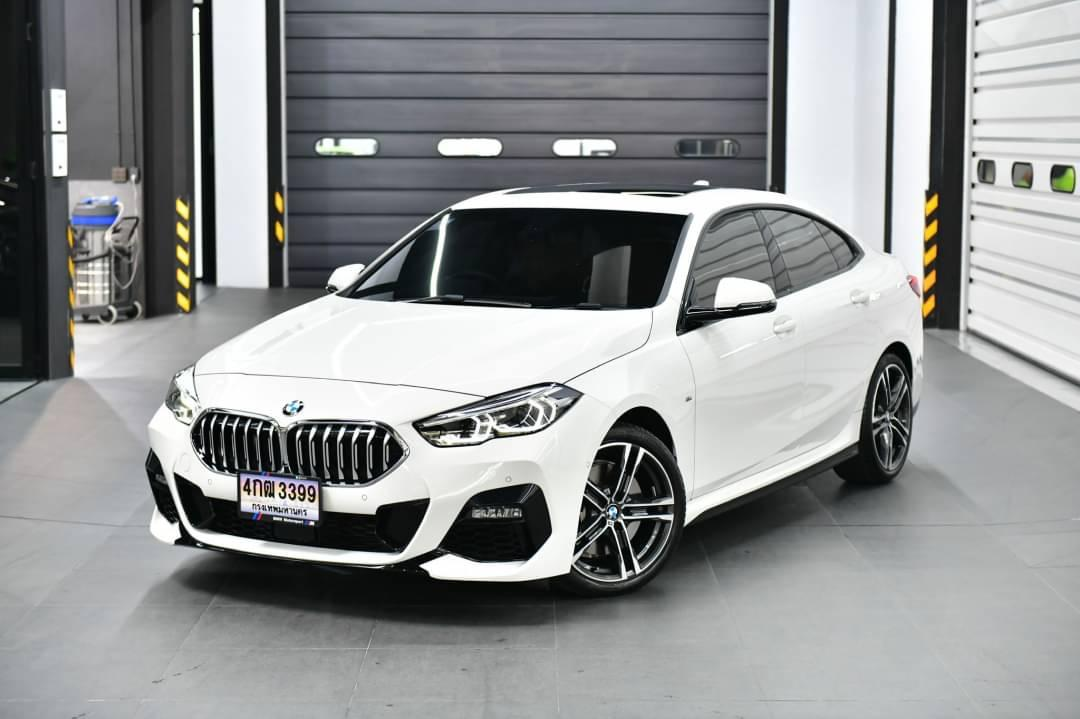license-plate: (236, 467, 322, 532)
